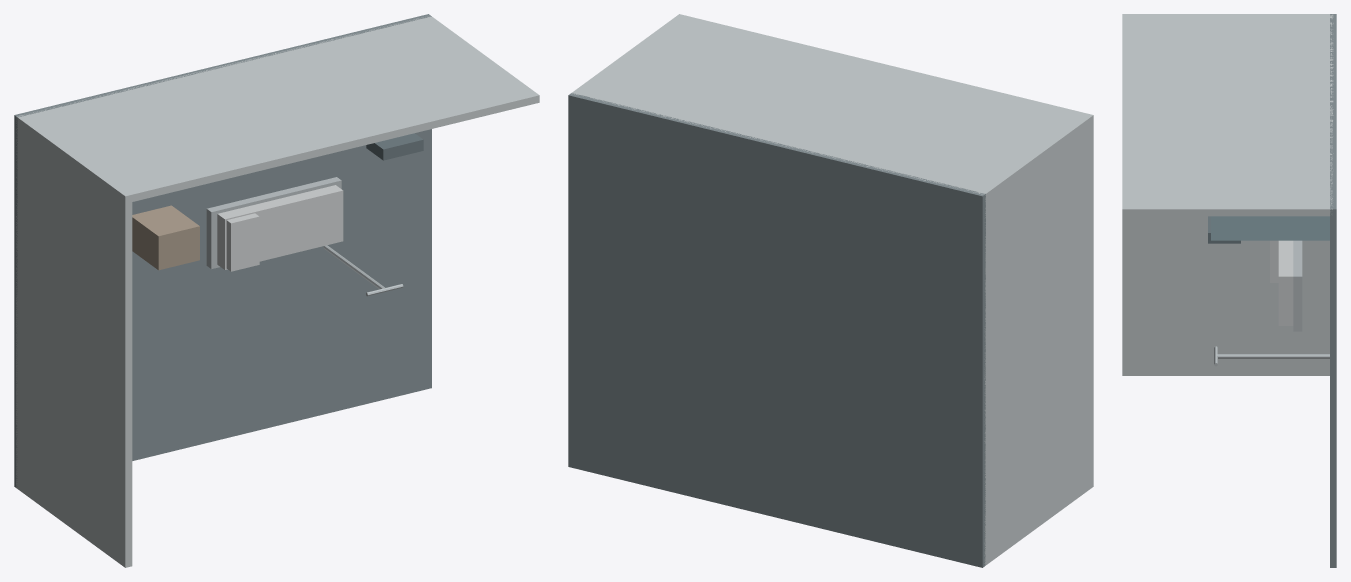
The model's file is patient-room-low.glb.
3 renders of one model, left to right at view 1: azimuth 30°, elevation 25°; view 2: azimuth 150°, elevation 25°; view 3: azimuth 270°, elevation 25°, orthographic. The views are drawn at different scales.
Parts seen in each view (by area): view 1: floor, wall_back, wall_left, bed, bedside_table, pillow, bed_frame, monitor; view 2: floor, wall_back, wall_left; view 3: wall_back, wall_left, floor, cabinet, bed, bed_frame, iv_stand, pillow.
Boxes of the visible parts, x1=… form: floor: x1=14, y1=14, x2=431, y2=487; wall_back: x1=16, y1=16, x2=539, y2=203; wall_left: x1=16, y1=115, x2=132, y2=567; bed: x1=217, y1=185, x2=343, y2=269; bedside_table: x1=132, y1=205, x2=199, y2=270; pillow: x1=226, y1=213, x2=259, y2=271; bed_frame: x1=206, y1=177, x2=341, y2=268; monitor: x1=366, y1=133, x2=423, y2=160; floor: x1=568, y1=93, x2=985, y2=567; wall_back: x1=572, y1=14, x2=1093, y2=201; wall_left: x1=978, y1=114, x2=1093, y2=565; wall_back: x1=1122, y1=14, x2=1333, y2=216; wall_left: x1=1122, y1=14, x2=1333, y2=375; floor: x1=1330, y1=14, x2=1336, y2=567; cabinet: x1=1211, y1=216, x2=1329, y2=240; bed: x1=1278, y1=240, x2=1293, y2=325; bed_frame: x1=1293, y1=240, x2=1302, y2=331; iv_stand: x1=1216, y1=354, x2=1329, y2=358; pillow: x1=1270, y1=240, x2=1278, y2=282.
Size of the model in its own units: 7 by 6 by 3.25.
